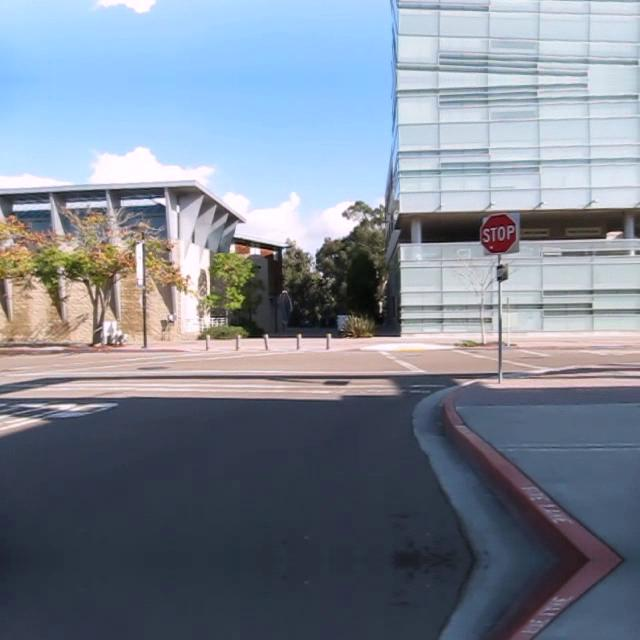stop: (478, 212, 518, 254)
